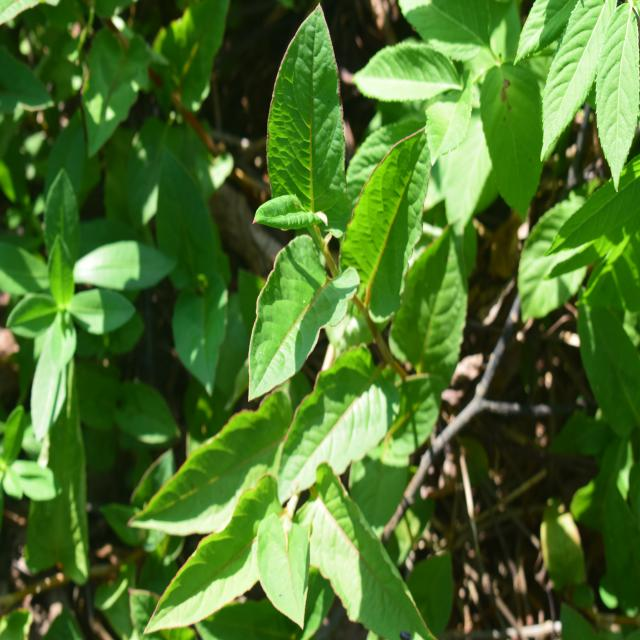Chinese_knotweed: (207, 80, 473, 430), (118, 363, 428, 632)
